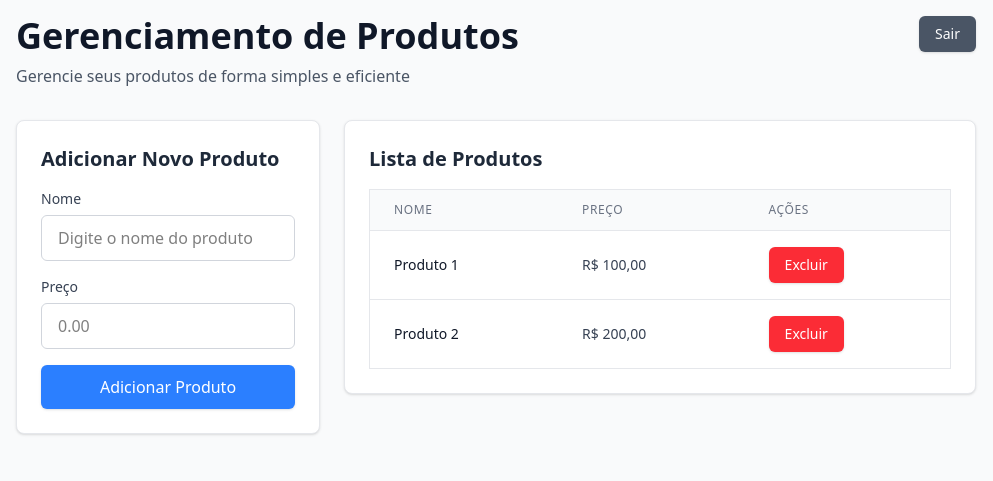
Test: Products › adiciona novo produto à lista
Expected: the text "Produto 1" is shown, [370,230,558,300]
In the field labelled "Nome": [168, 238] box [41,215,295,261], type "Produto Novo"
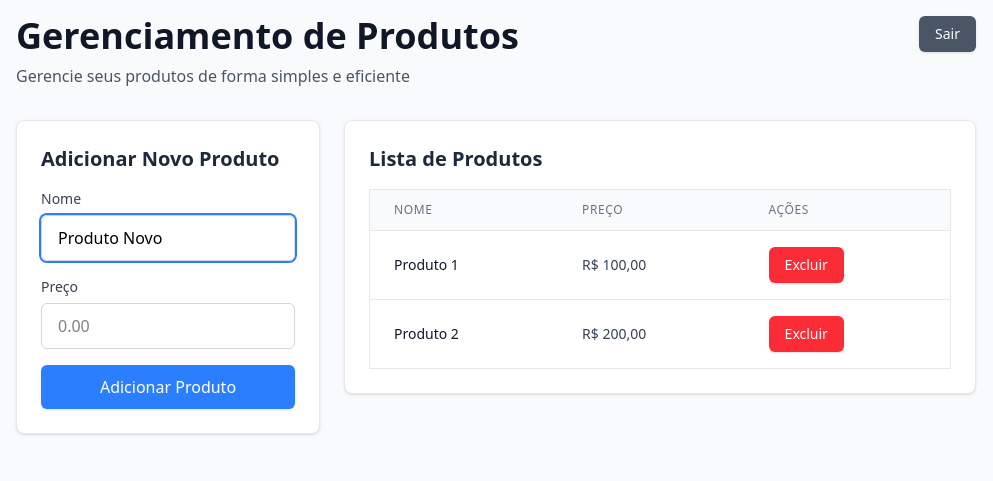
In the number field labelled "Preço": [168, 326] box [41,303,295,349], type "300"
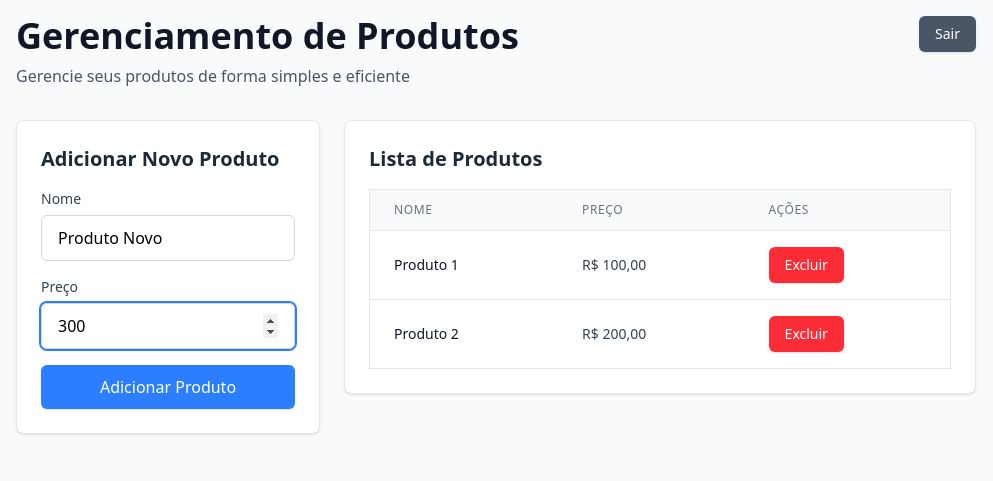
Click the button "Adicionar Produto": [168, 387] box [41,365,295,409]
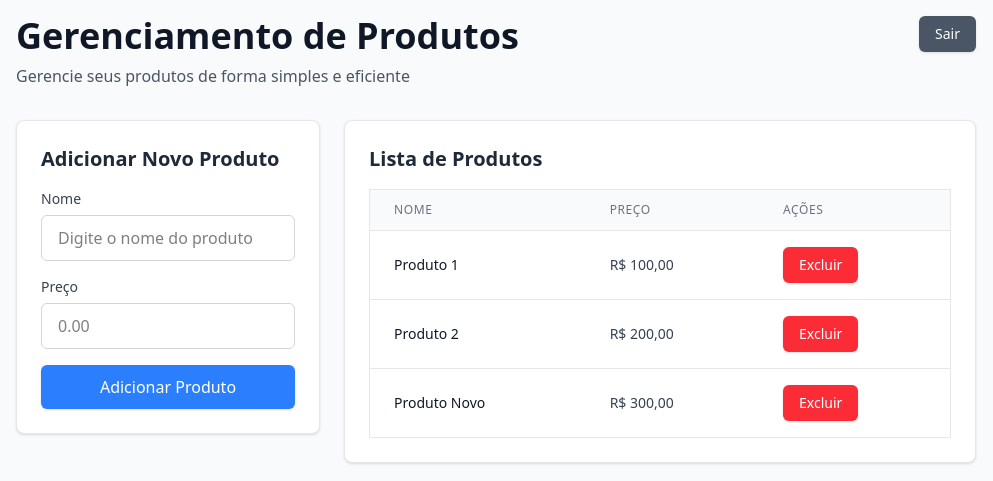
Expected: the text "Produto 1" is shown, [370,230,586,300]
Expected: the text "Produto Novo" is shown, [370,368,586,438]
